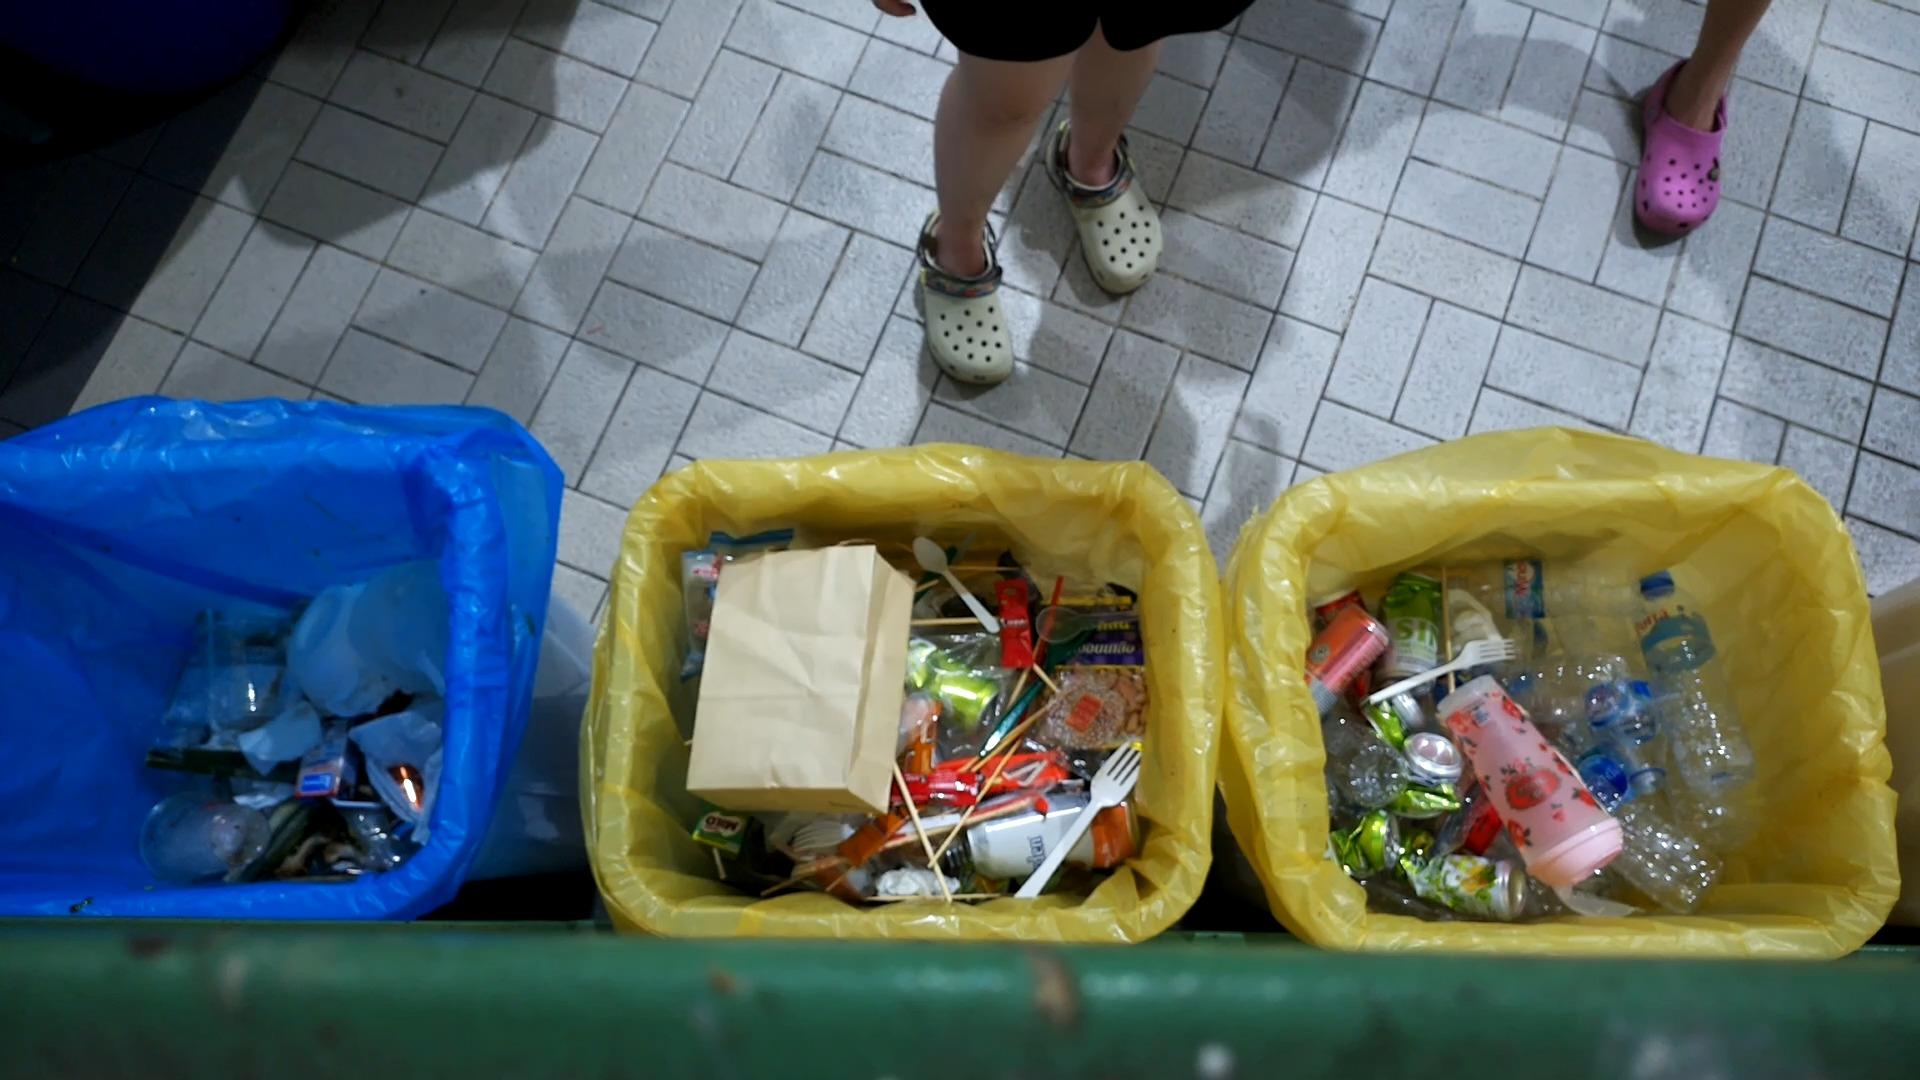can: (964, 786, 1146, 881), (1383, 824, 1530, 924), (1304, 600, 1398, 719), (902, 630, 1005, 737), (1370, 567, 1451, 698), (1382, 729, 1468, 823), (1328, 808, 1403, 886), (1354, 679, 1428, 756)
food container: (281, 578, 369, 711)
milk carton: (291, 715, 382, 812)
paper bag: (682, 539, 919, 819)
plastic bag: (342, 556, 452, 704)
plastic bottle: (1629, 562, 1758, 796), (1553, 608, 1671, 796), (1576, 775, 1730, 918), (1445, 550, 1650, 624), (1311, 703, 1415, 812), (1487, 653, 1636, 727)
plastic cup: (1435, 667, 1627, 897), (135, 785, 274, 889), (185, 612, 284, 731)
plastic cutlery: (1013, 741, 1142, 901), (978, 617, 1100, 761), (1366, 633, 1520, 708), (909, 533, 1002, 633), (791, 811, 965, 855), (1422, 767, 1490, 865), (1033, 603, 1141, 649), (894, 688, 939, 756)
snack packaging: (1021, 589, 1151, 756), (1021, 655, 1145, 781), (932, 748, 1068, 822), (994, 571, 1068, 680), (833, 799, 927, 869), (887, 769, 982, 815)
sticks: (790, 793, 1036, 880), (926, 737, 1023, 873), (890, 757, 955, 906), (955, 698, 1055, 777), (969, 698, 1058, 773), (1437, 562, 1458, 696), (864, 891, 1011, 905)
tissue paper: (235, 698, 330, 777), (1445, 587, 1509, 665), (869, 862, 964, 901), (225, 767, 298, 815)
